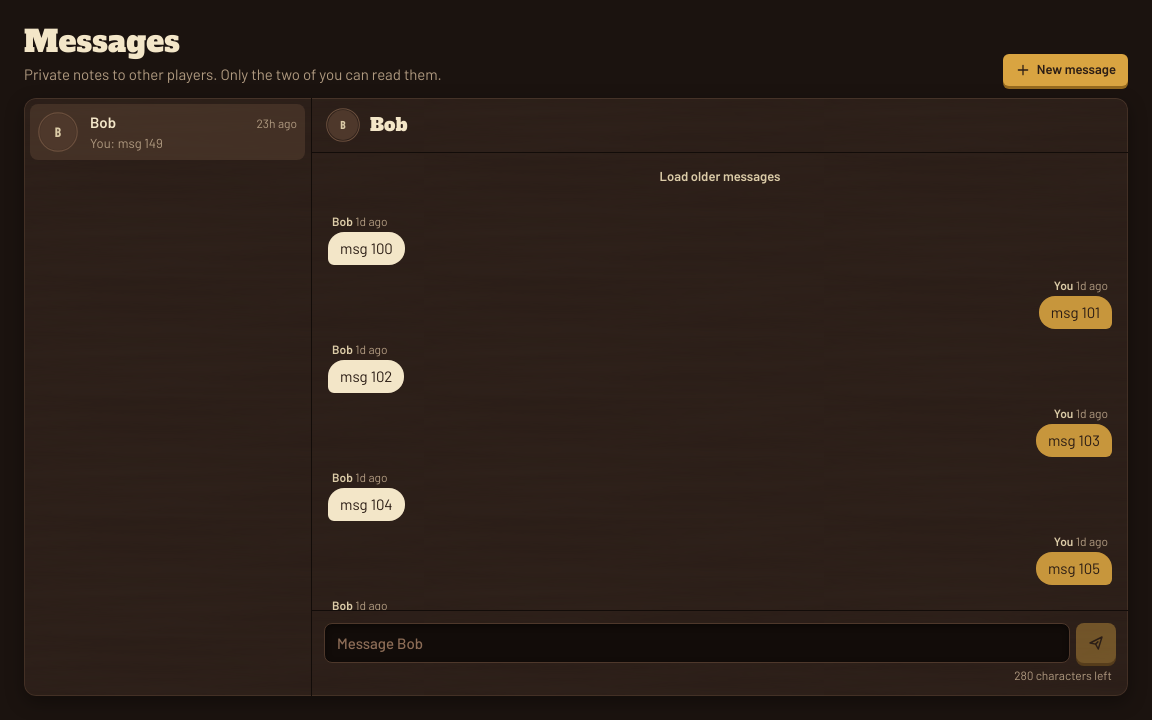
Test: MessagesScreen › loads older messages with `before` = the oldest loaded message
Click the button "Load older messages". click: (720, 177)
box: [648,161,792,193]
(page scrolled)
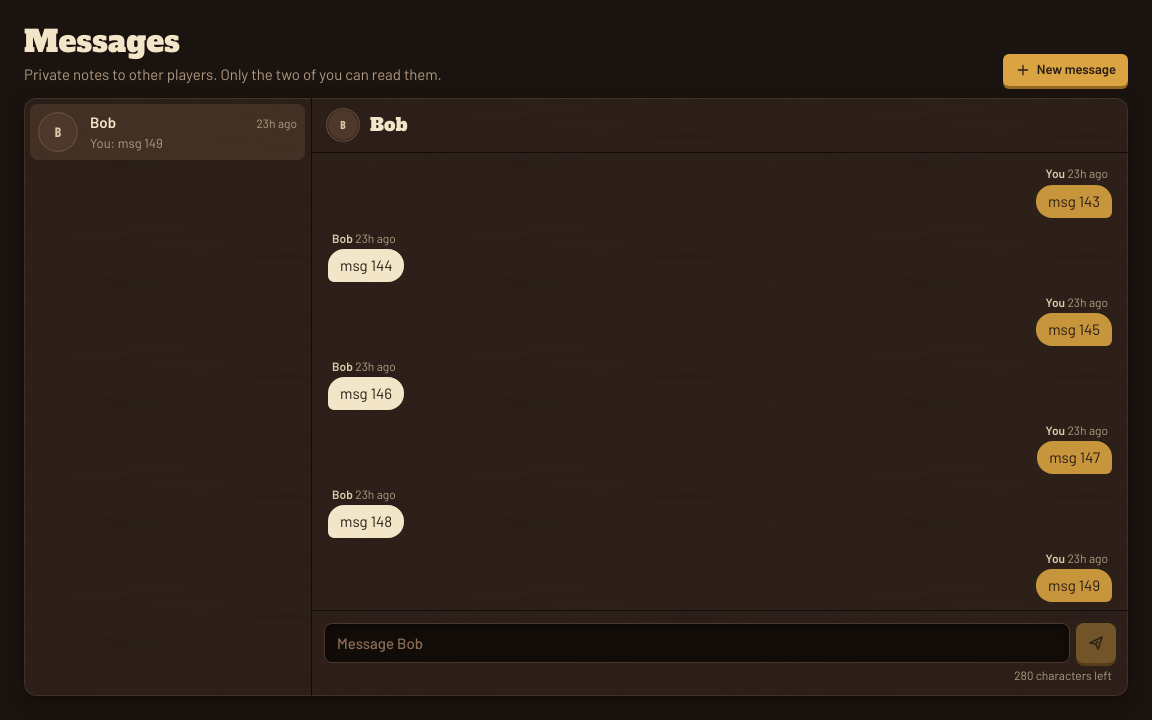
Check: the text "msg 149" is shown, box [1036,569,1112,602]
Check: the button "Load older messages" is gone
